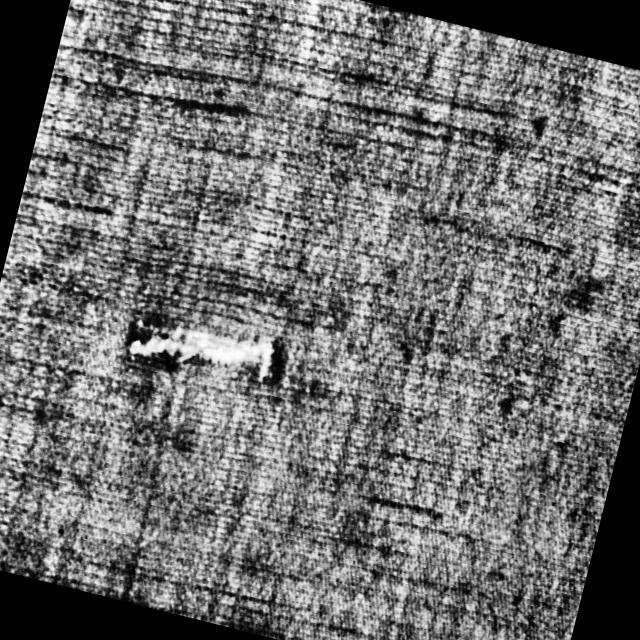cut: (121, 297, 282, 392)
